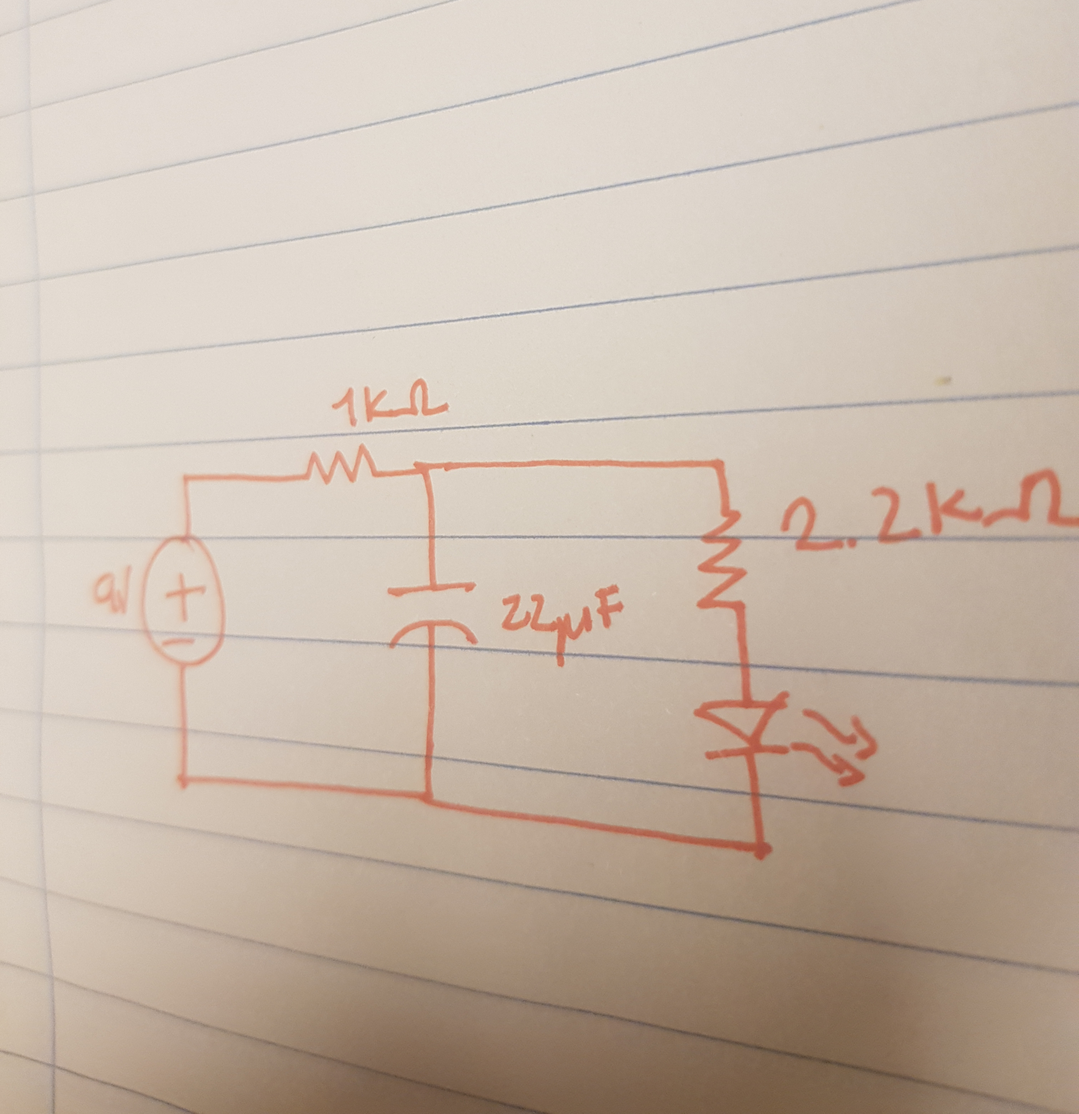capacitor.unpolarized: (379, 573, 487, 659)
diode.light_emitting: (689, 688, 881, 789)
junction: (740, 829, 784, 869), (409, 775, 446, 822), (166, 765, 205, 799), (171, 464, 205, 500), (409, 456, 442, 491), (701, 447, 738, 476)
resistor: (694, 507, 751, 612), (302, 440, 378, 491)
text: (779, 466, 1078, 557), (499, 579, 636, 673), (325, 374, 458, 429), (82, 557, 147, 629)
voltage.dc: (133, 532, 238, 677)
